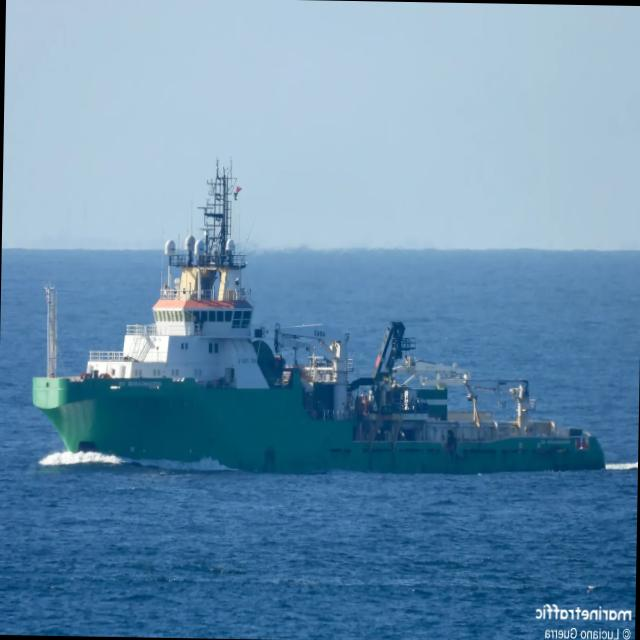Offshore: (33, 161, 604, 473)
